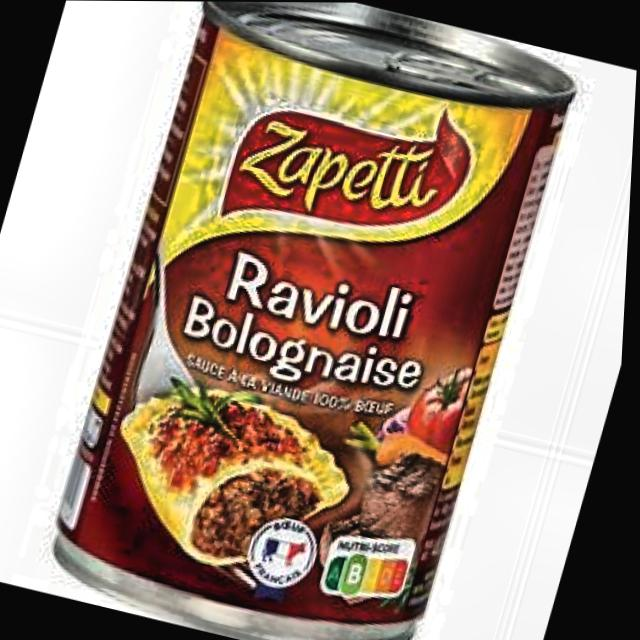Cans: (32, 0, 601, 640)
